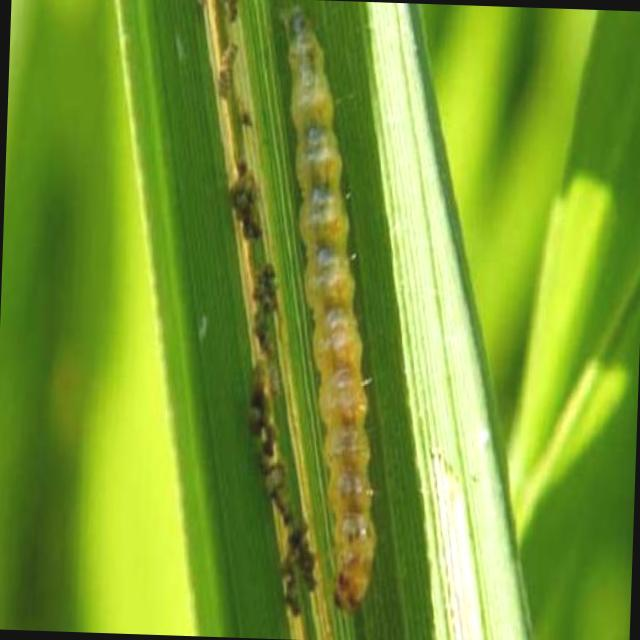leaf folder: (284, 8, 375, 611)
